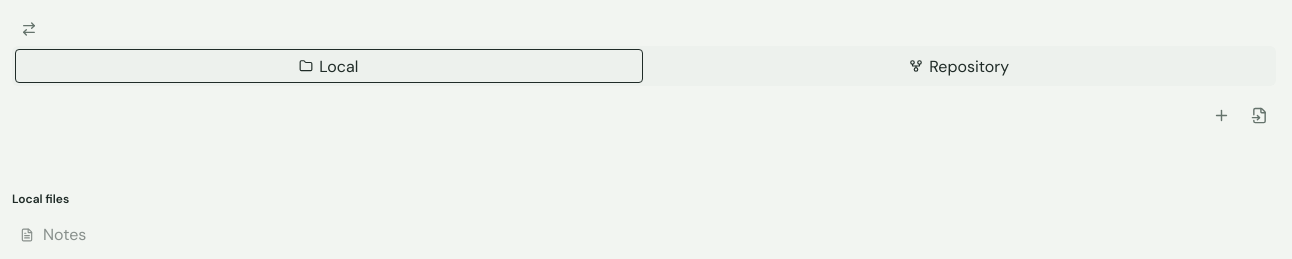
Test: GitHub workspace › shows the GitHub connection action only in the Repository workspace
Expected: the button "Connect GitHub" is not shown
Click the button "Repository": [959, 66] box x1=646 y1=49 x2=1273 y2=83
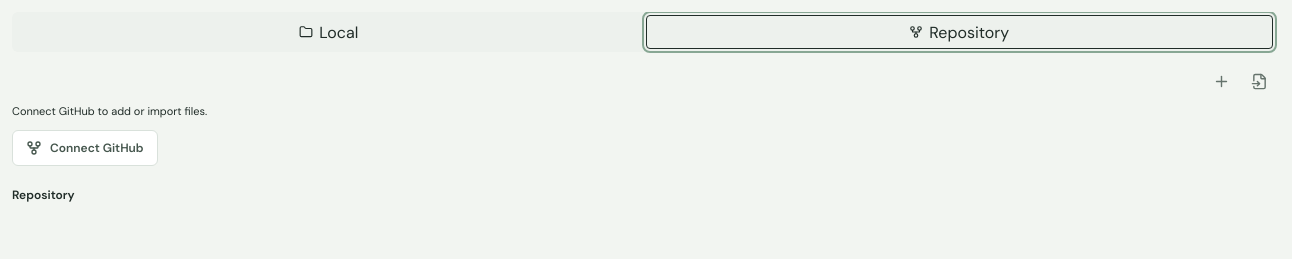
Now the button "Connect GitHub" is shown, box x1=12 y1=130 x2=158 y2=166
Click the button "Local": [329, 32] box x1=15 y1=15 x2=642 y2=49
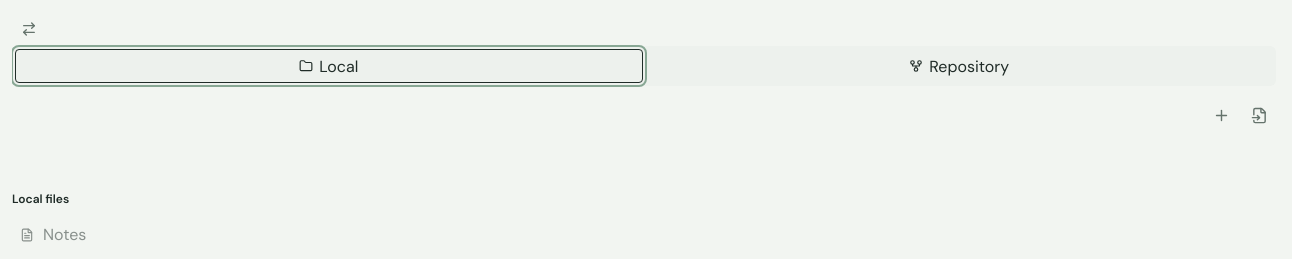
Now the text "Connect GitHub" is gone
